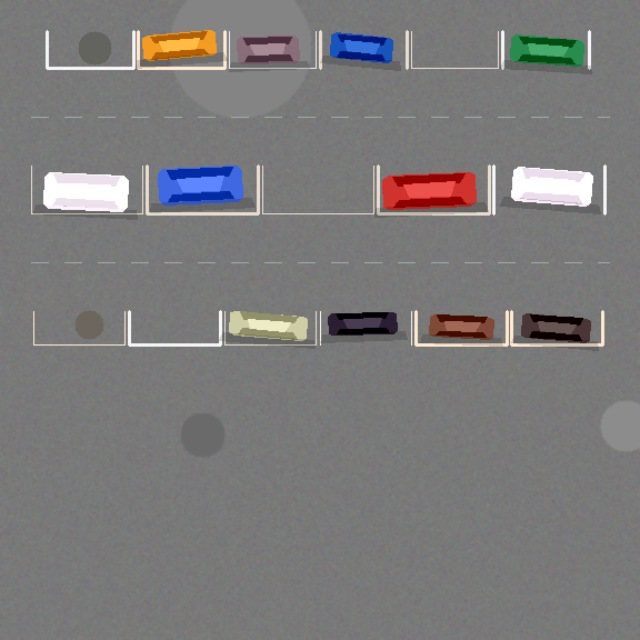space-empty: (262, 166, 373, 213), (411, 31, 498, 68), (47, 31, 133, 68), (33, 311, 124, 344), (129, 311, 220, 344)
space-occupied: (31, 166, 142, 213), (147, 166, 258, 213), (378, 166, 489, 213), (493, 166, 604, 213), (229, 31, 316, 68), (320, 31, 407, 68), (502, 31, 589, 68), (138, 31, 224, 68), (224, 311, 316, 344), (320, 311, 411, 344), (416, 311, 507, 344), (511, 311, 602, 344)
